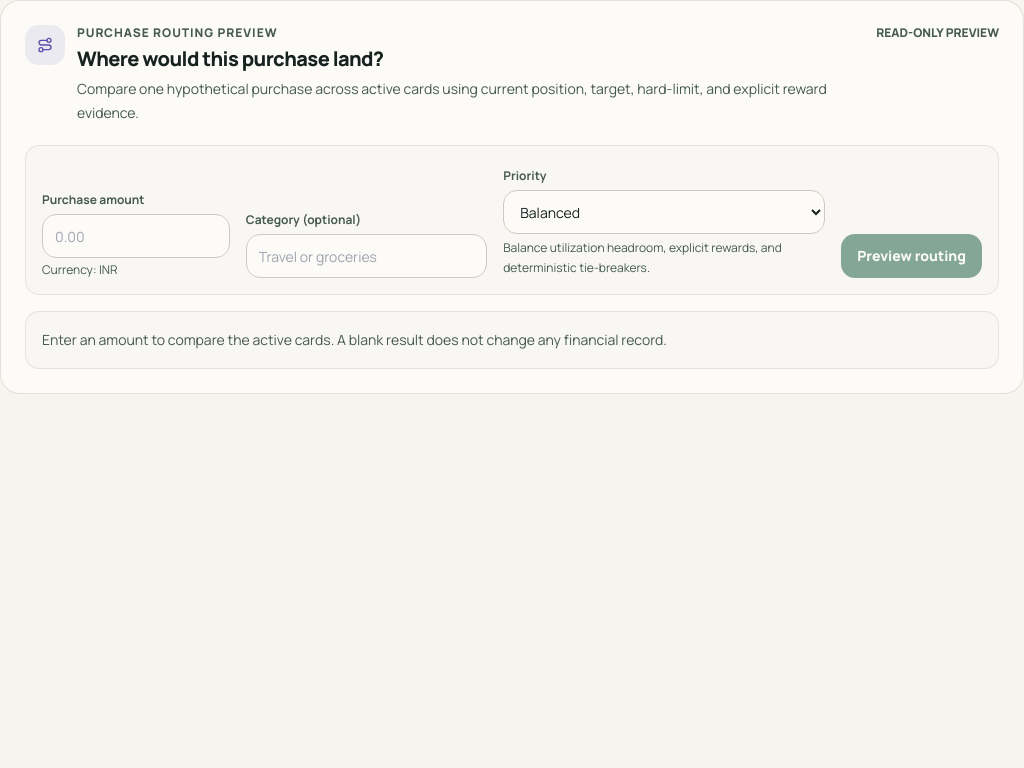
Test case: CardSpendRoutingPanel › submits explicit purchase intent and renders evidence-ranked options
Type "5000" into the number field labelled "Purchase amount" at (136, 236), box [42,214,230,258]
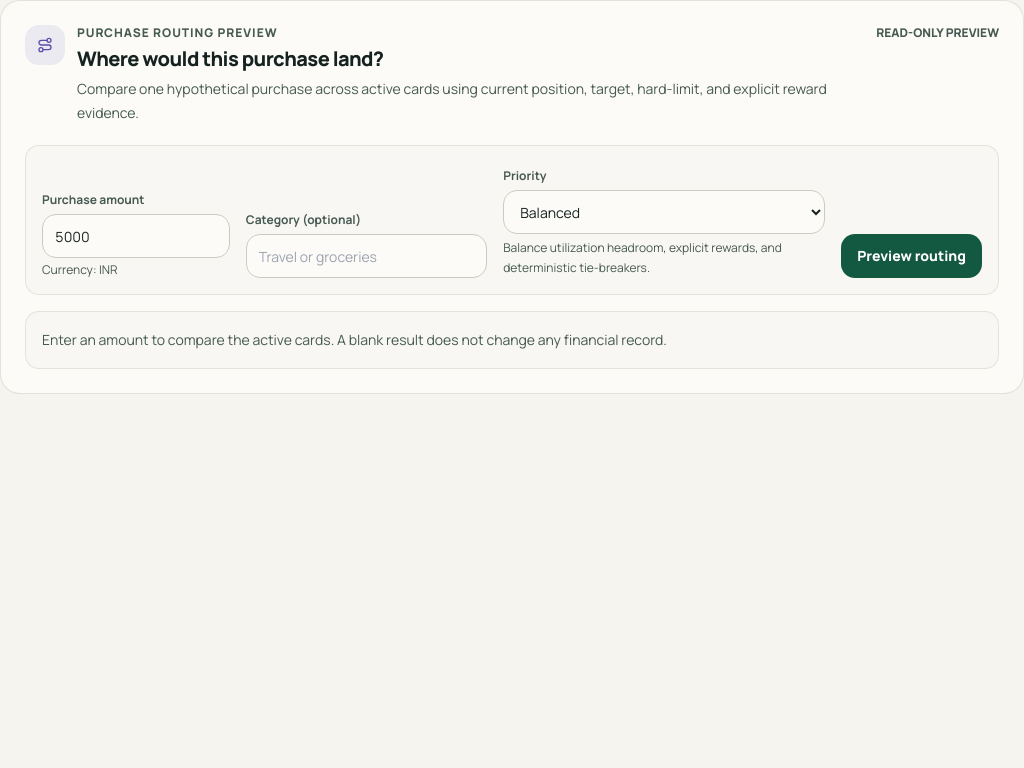
Type "travel" into the field labelled "Category (optional)" at (367, 256), box [246,234,487,278]
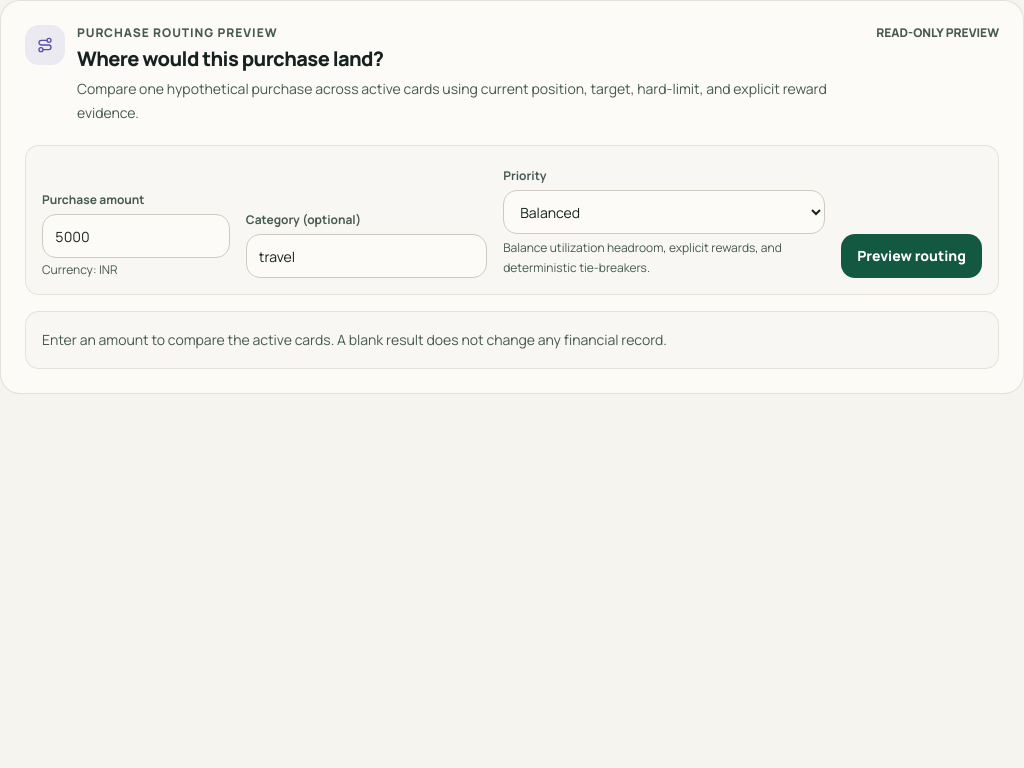
Select "Explicit rewards" in the dropdown labelled "Priority" at (664, 212), box [503,190,825,234]
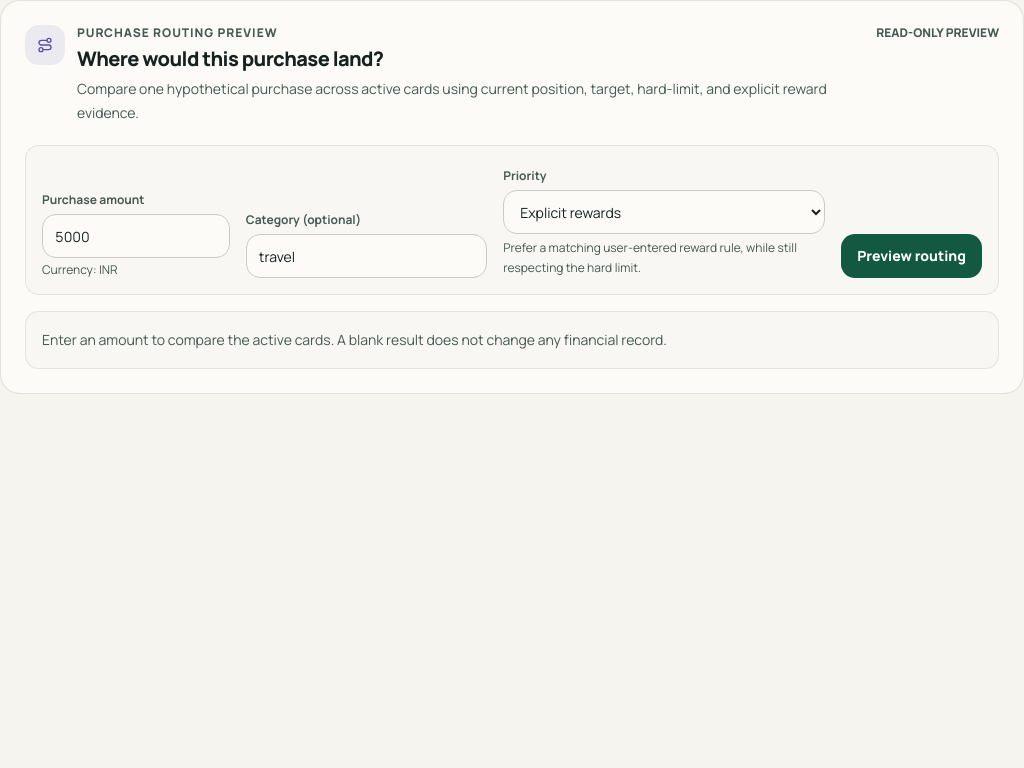
Click the button "Preview routing" at (912, 256), box [841,234,982,278]
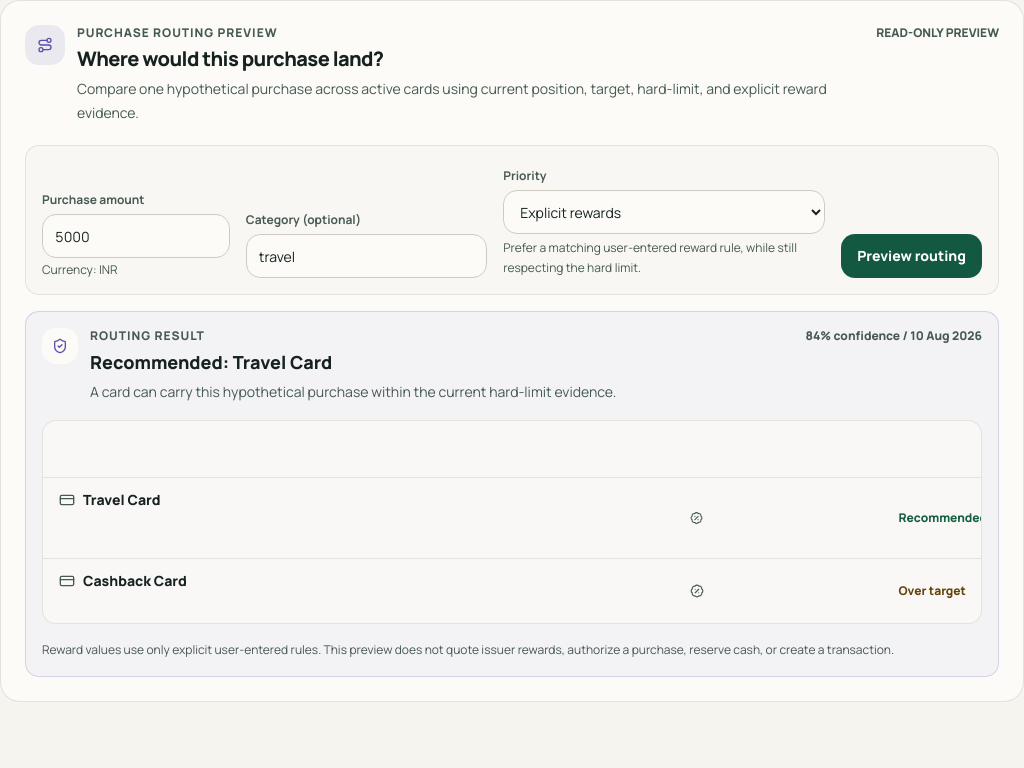
Now the heading "Recommended: Travel Card" is shown, box [90,350,332,374]
Now the table named "Hypothetical card routing options" is shown, box [43,421,982,623]
Now the text "does not quote issuer rewards" is shown, box [42,641,894,658]
